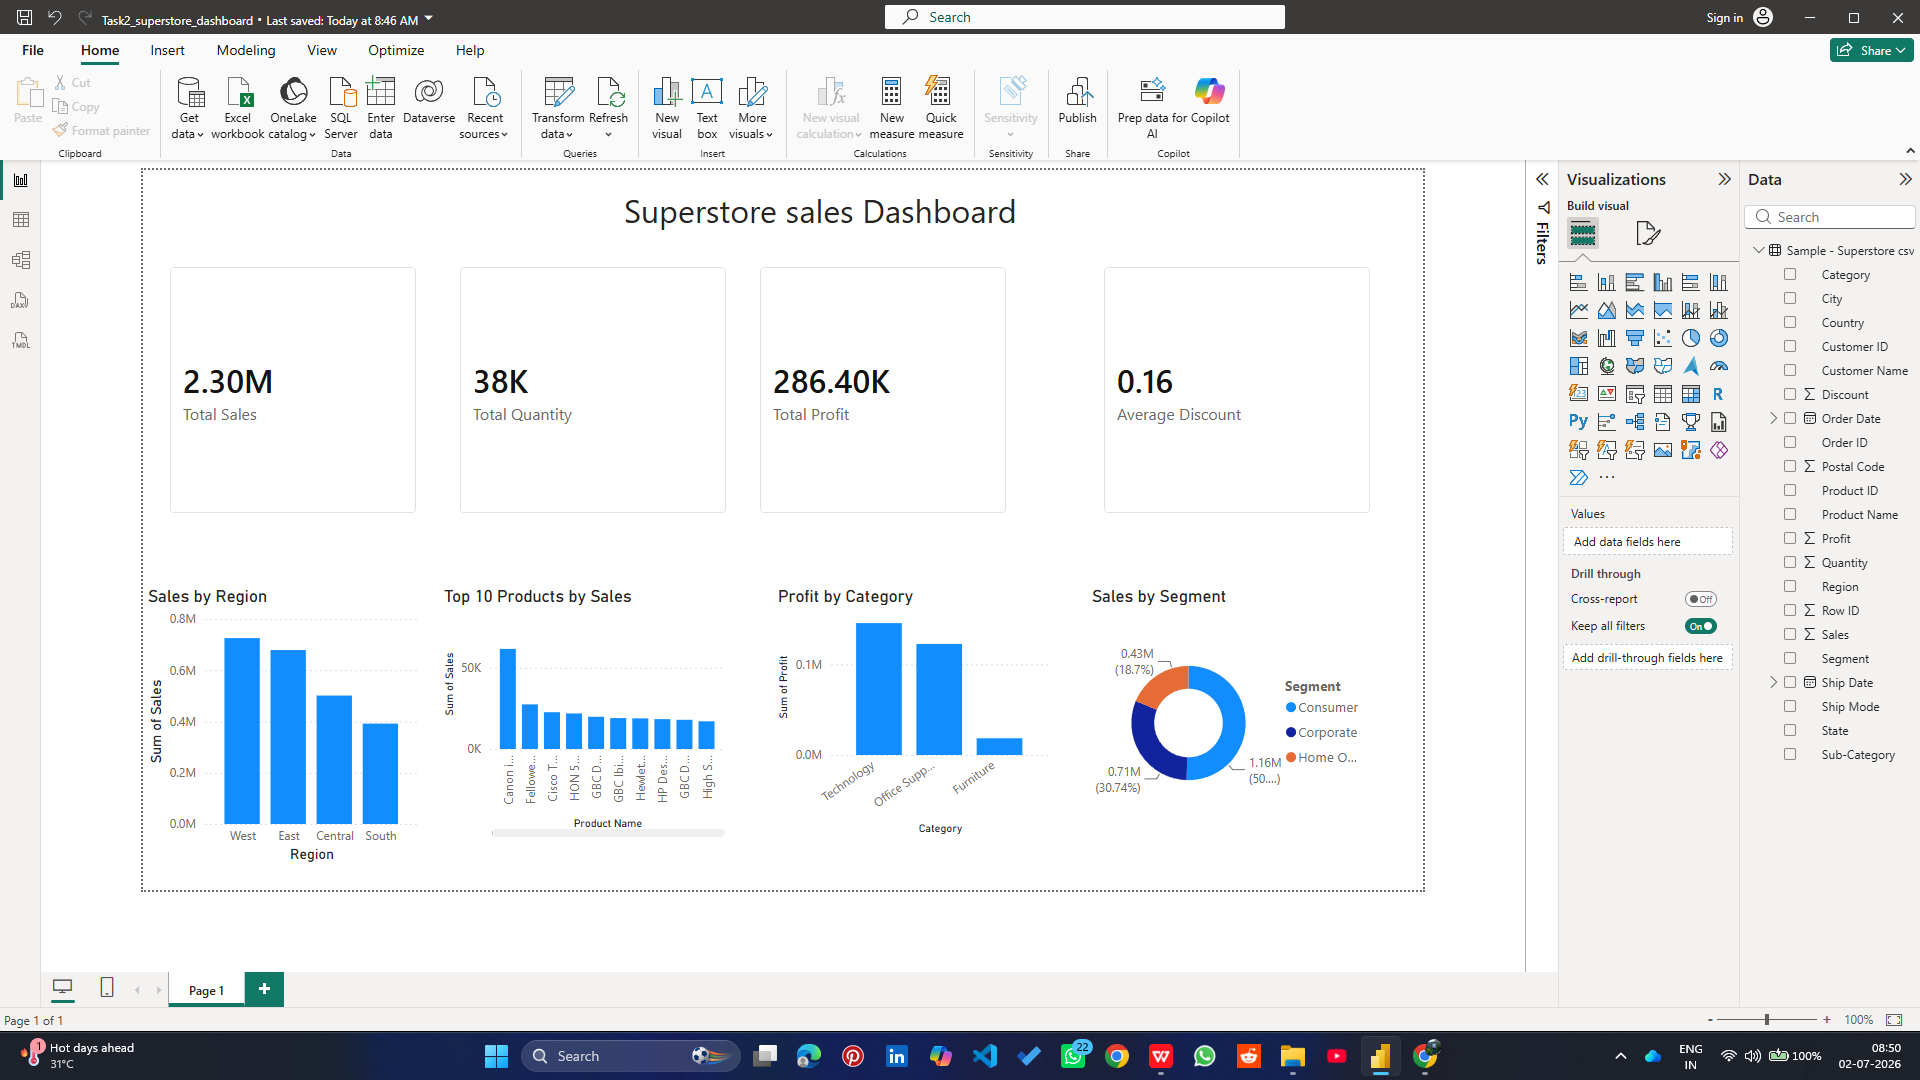

This screenshot's page, from the dashboard's own definition file:
{"tool":"powerbi","page":{"name":"Page 1","canvas":[1280,720],"ordinal":0},"visuals":[{"type":"cardVisual","fields":{"Data":["Sum(Sample - Superstore csv.Sales)"]},"box":[9.9,79.7,280.3,280.3],"z":0},{"type":"cardVisual","fields":{"Data":["Sum(Sample - Superstore csv.Quantity)"]},"box":[300,79.7,300,280.3],"z":1000},{"type":"cardVisual","fields":{"Data":["Sum(Sample - Superstore csv.Profit)"]},"box":[600,79.7,280.3,280.3],"z":2000},{"type":"clusteredColumnChart","title":"Sales by Region","fields":{"Category":["Sample - Superstore csv.Region"],"Y":["Sum(Sample - Superstore csv.Sales)"]},"box":[0,416.4,280.3,280.3],"z":3000},{"type":"cardVisual","fields":{"Data":["Avg(Sample - Superstore csv.Discount)"]},"box":[943.9,79.7,300,280.3],"z":4000},{"type":"clusteredColumnChart","title":" Profit by Category","fields":{"Category":["Sample - Superstore csv.Category"],"Y":["Sum(Sample - Superstore csv.Profit)"]},"box":[630.4,416.4,280.3,252.5],"z":5000},{"type":"donutChart","title":"Sales by Segment","fields":{"Category":["Sample - Superstore csv.Segment"],"Y":["Sum(Sample - Superstore csv.Sales)"]},"box":[944,416,286,255],"z":7000},{"type":"columnChart","title":"Top 10 Products by Sales","fields":{"Category":["Sample - Superstore csv.Product Name"],"Y":["Sum(Sample - Superstore csv.Sales)"]},"box":[296.4,416.4,290.1,255.2],"z":8000},{"type":"textbox","box":[476.4,13.4,403.9,66.3],"z":9000}]}

Visuals, with their boxes on the page's 1280x720 design canvas (x1, y1, x2, y2). These are canvas units, not pixel positions in the 1920x1080 screenshot, which may show the page scaled, cropped or inside an application window:
cardVisual - Sum(Sample - Superstore csv.Sales): [left=10, top=80, right=290, bottom=360]
cardVisual - Sum(Sample - Superstore csv.Quantity): [left=300, top=80, right=600, bottom=360]
cardVisual - Sum(Sample - Superstore csv.Profit): [left=600, top=80, right=880, bottom=360]
"Sales by Region" clusteredColumnChart: [left=0, top=416, right=280, bottom=697]
cardVisual - Avg(Sample - Superstore csv.Discount): [left=944, top=80, right=1244, bottom=360]
" Profit by Category" clusteredColumnChart: [left=630, top=416, right=911, bottom=669]
"Sales by Segment" donutChart: [left=944, top=416, right=1230, bottom=671]
"Top 10 Products by Sales" columnChart: [left=296, top=416, right=586, bottom=672]
textbox: [left=476, top=13, right=880, bottom=80]
